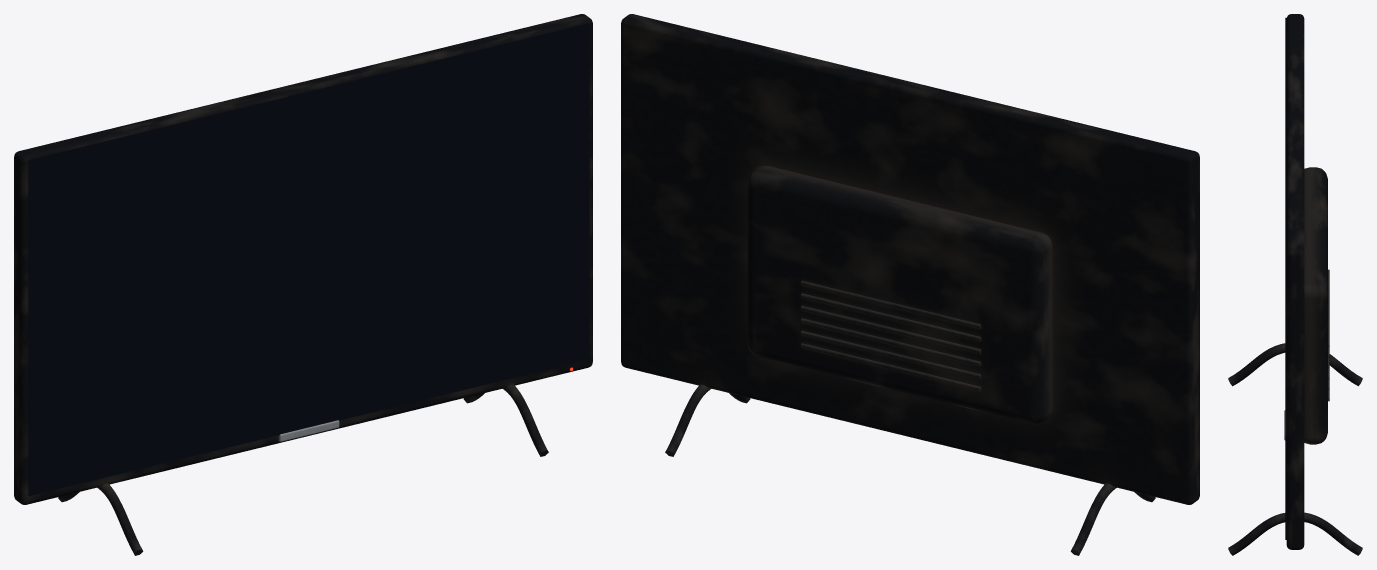
Rendered from dom_tv.glb.
The picture shows the model from 3 angles, left to right: view 1: azimuth 30°, elevation 25°; view 2: azimuth 150°, elevation 25°; view 3: azimuth 270°, elevation 25°; orthographic projection. The views are drawn at different scales.
Parts seen in each view (by area): view 1: Ekran, Telewizor; view 2: Telewizor; view 3: Telewizor, Ekran.
Part boxes in pixels (x1,y1,x2,y2): Ekran: (28, 23, 589, 496); Telewizor: (14, 14, 592, 555); Telewizor: (621, 14, 1199, 555); Telewizor: (1228, 14, 1362, 555); Ekran: (1285, 17, 1286, 539).
Size of the model in its own units: 0.96 by 0.6319 by 0.2271.
3 materials, 1 textured.
